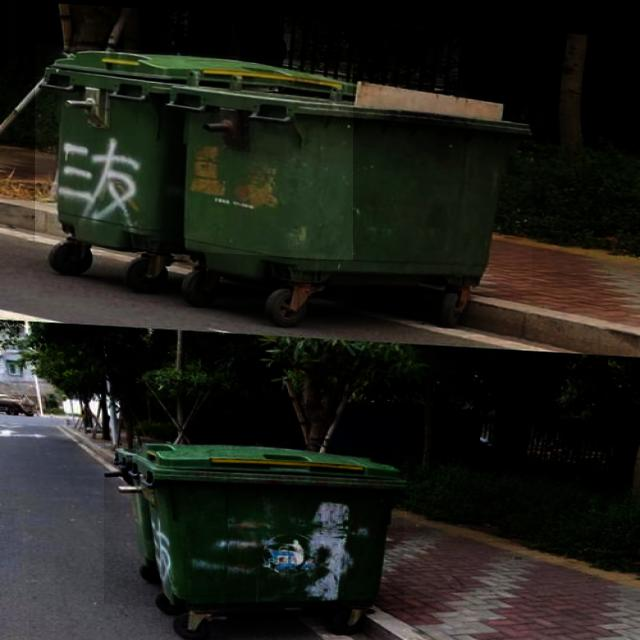garbage_bin: (35, 44, 353, 256), (104, 435, 404, 617)
overflow: (170, 68, 532, 285)
